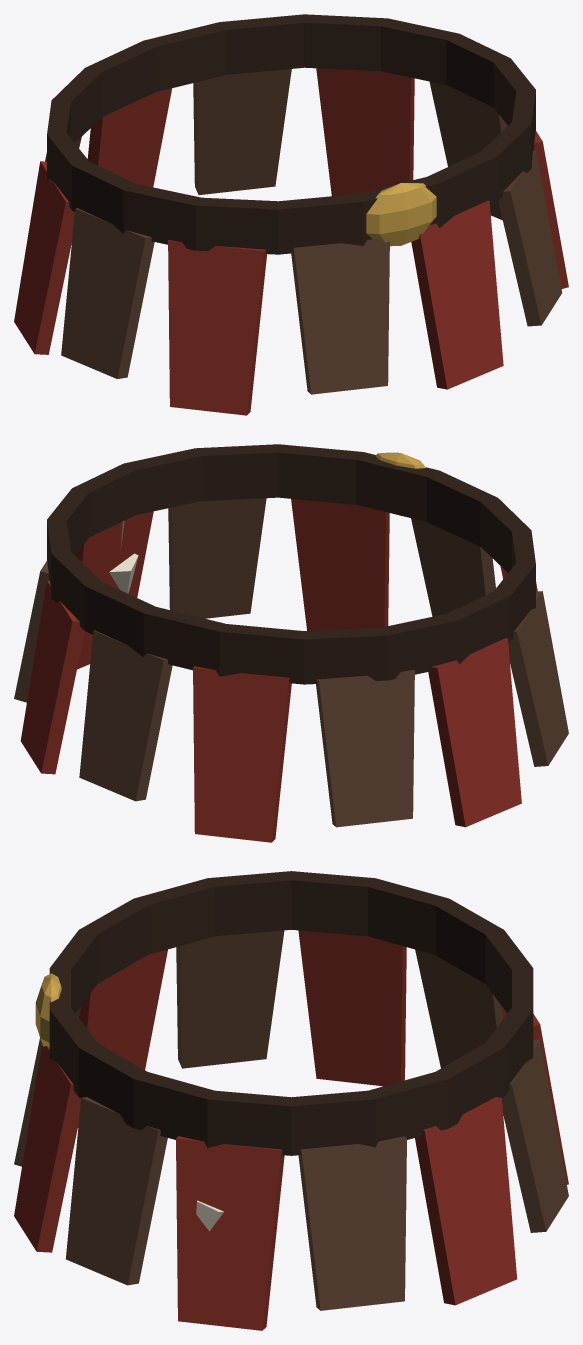
Rendered from saltreaver_king_kilt.glb.
3 renders of one model, top to bottom at view 1: azimuth 30°, elevation 25°; view 2: azimuth 150°, elevation 25°; view 3: azimuth 270°, elevation 25°, orthographic. The views are drawn at different scales.
Parts seen in each view (by area): view 1: saltreaver_king_kilt; view 2: saltreaver_king_kilt; view 3: saltreaver_king_kilt.
Boxes of the visible parts, <box> form: saltreaver_king_kilt: <box>14,14,568,415</box>; saltreaver_king_kilt: <box>14,444,568,842</box>; saltreaver_king_kilt: <box>14,871,568,1330</box>.
Size of the model in its own units: 1.13 by 0.4526 by 1.02.
